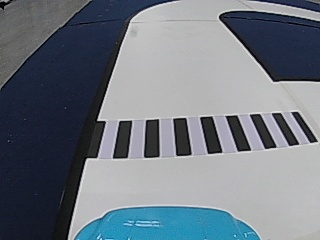CrossWalk: (87, 108, 316, 160)
